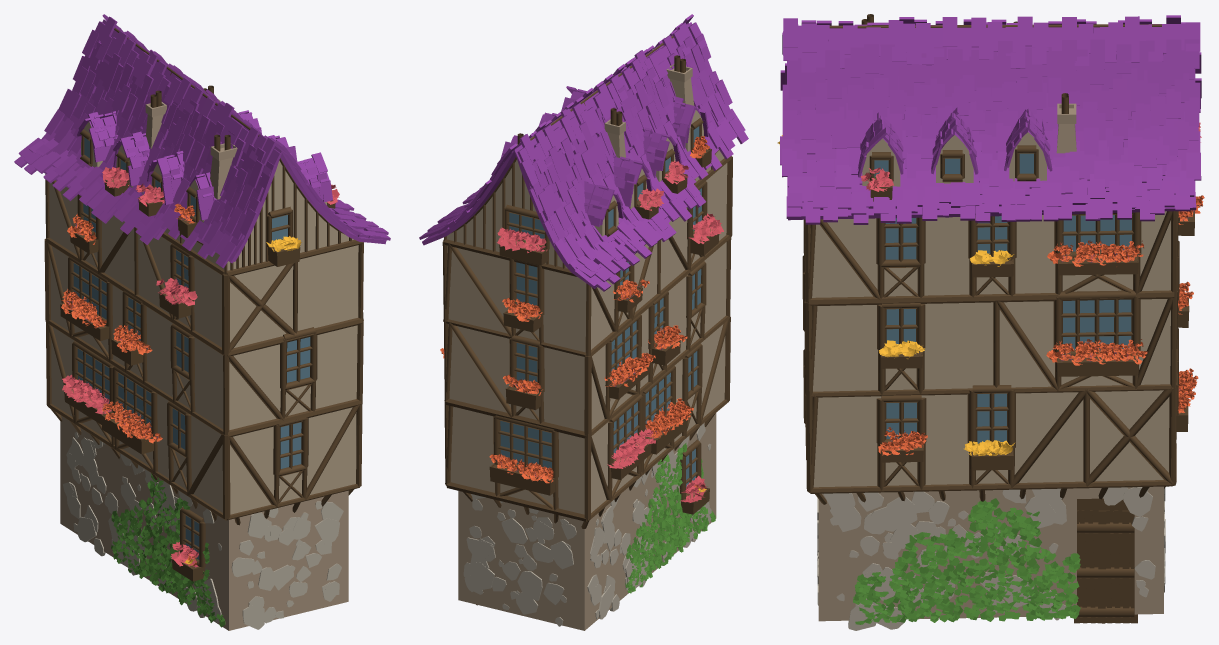
The model's file is house5.glb.
3 views of the same model, side by side, from view 1: azimuth 30°, elevation 25°; view 2: azimuth 150°, elevation 25°; view 3: azimuth 270°, elevation 25° (orthographic). The views are drawn at different scales.
Visible parts, largest first — view 1: MedievalBuilding; view 2: MedievalBuilding; view 3: MedievalBuilding.
Part boxes in pixels (x1,y1,x2,y2): MedievalBuilding: (14, 14, 390, 630); MedievalBuilding: (419, 14, 748, 630); MedievalBuilding: (777, 14, 1204, 630).
Bounding box in the file's own units: 4.61 × 10.71 × 7.26.
